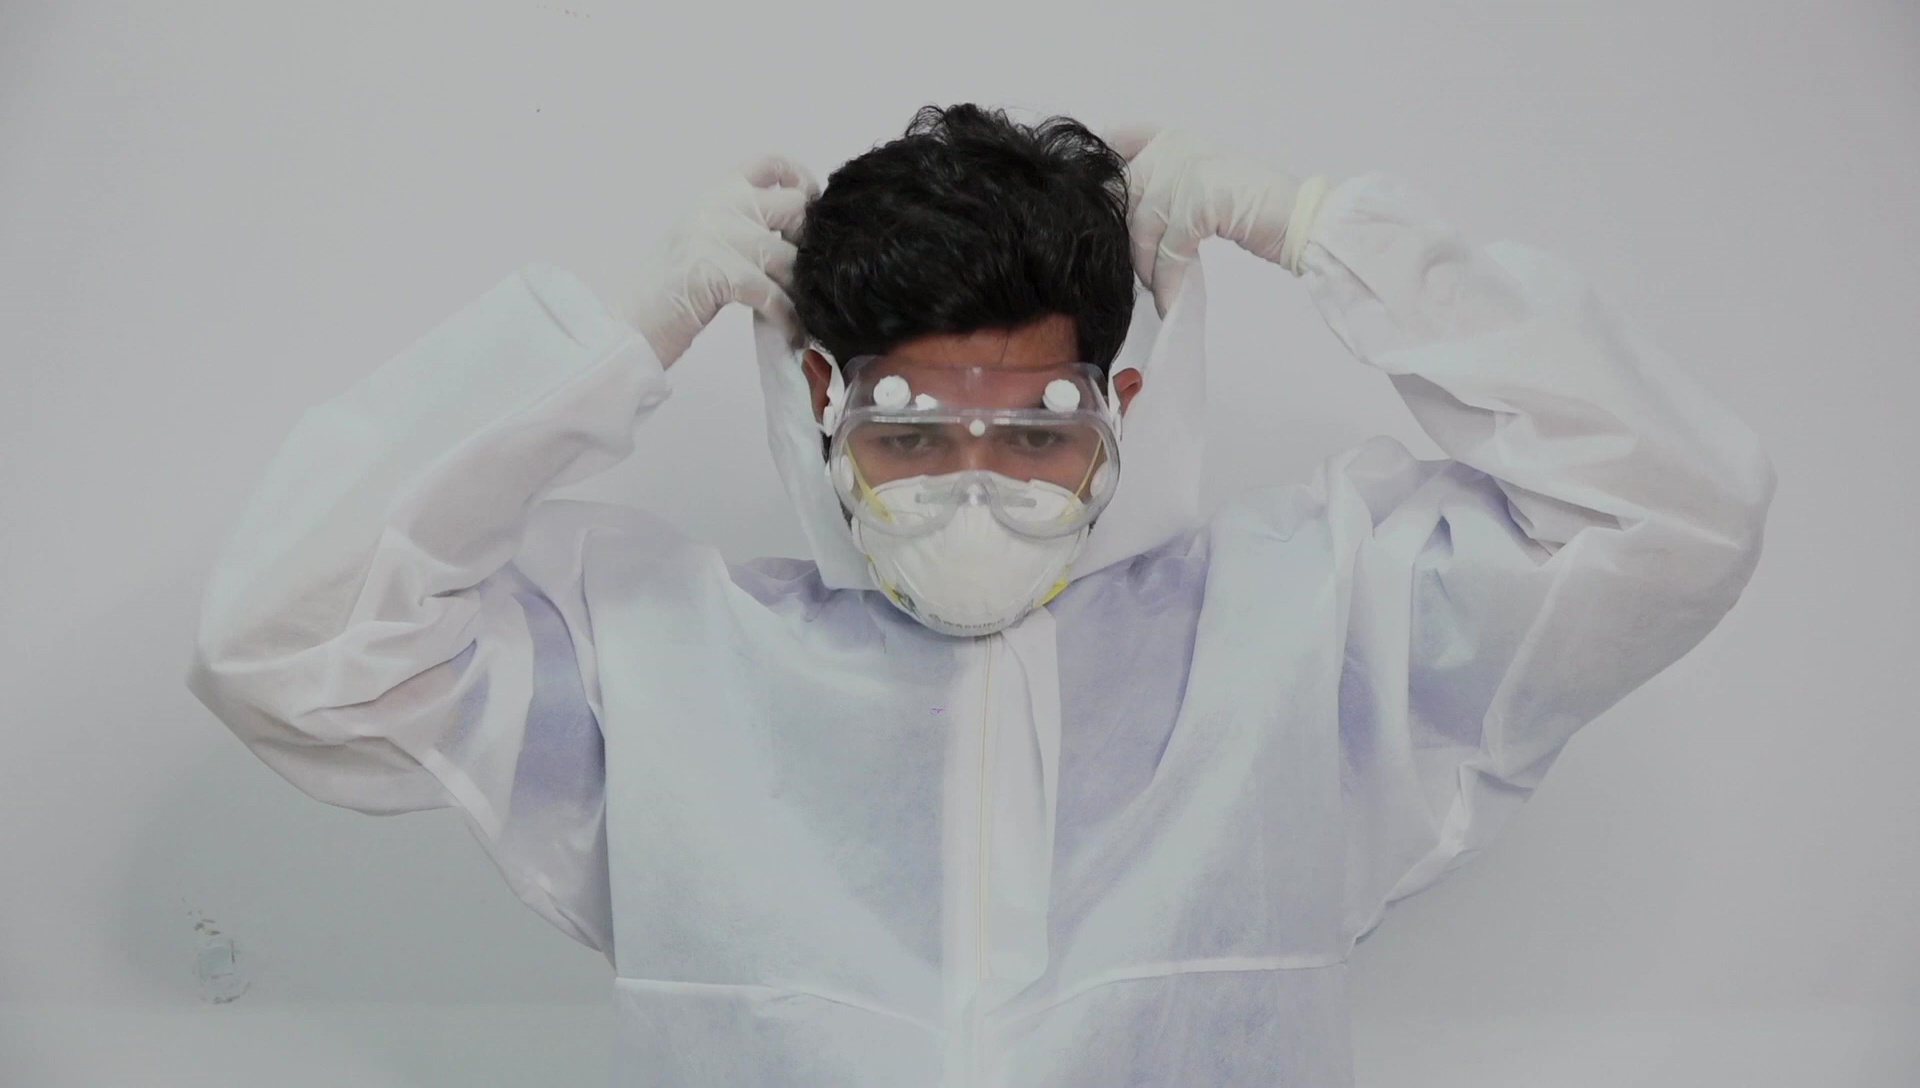Coverall: (191, 177, 1775, 1088)
Gloves: (1102, 110, 1314, 321), (619, 149, 805, 376)
Goggles: (823, 357, 1128, 542)
with_mask: (846, 427, 1091, 642)
